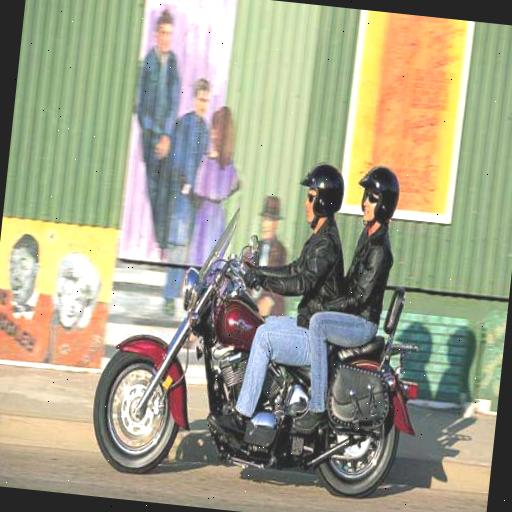helmet: (158, 136, 348, 481)
